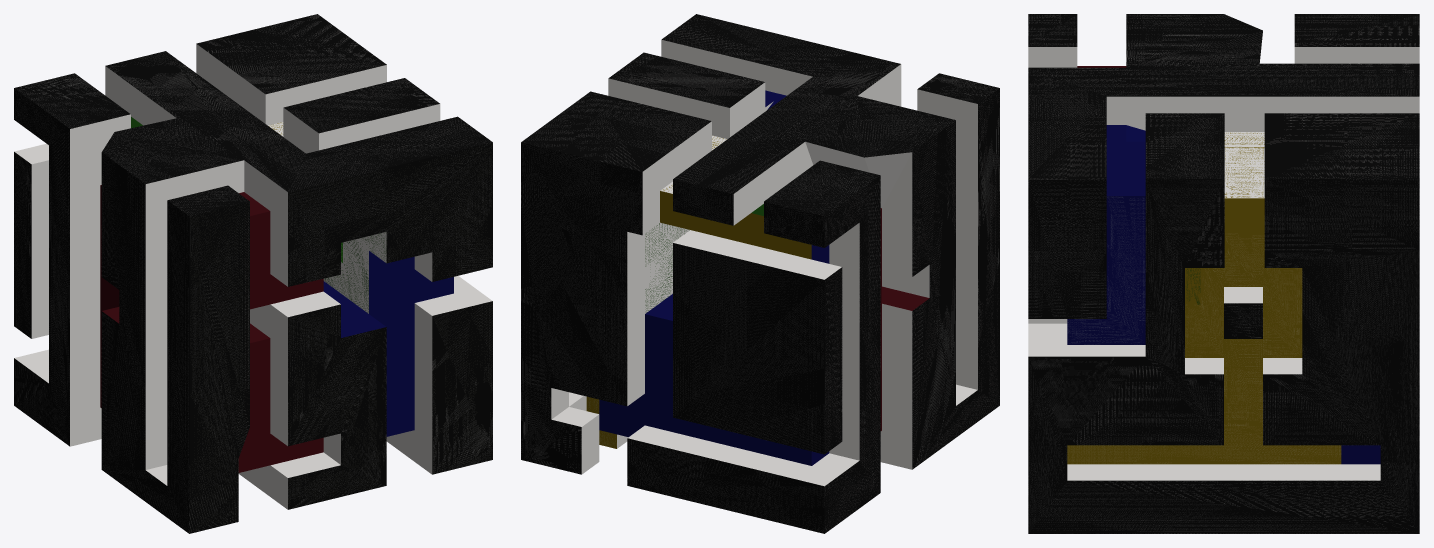
Rendered from taso1.dae.
The picture shows the model from 3 angles, left to right: view 1: azimuth 30°, elevation 25°; view 2: azimuth 150°, elevation 25°; view 3: azimuth 270°, elevation 25°; orthographic projection. The views are drawn at different scales.
Visible parts, largest first — view 1: SketchUp (×18); view 2: SketchUp (×18); view 3: SketchUp (×19).
Part boxes in pixels (box(x1,y1,x2,y2)): SketchUp (×18): box(14, 14, 492, 533); SketchUp (×18): box(521, 14, 999, 533); SketchUp (×19): box(1028, 14, 1419, 533).
Bounding box in the file's own units: 39370 × 39370 × 39370.
